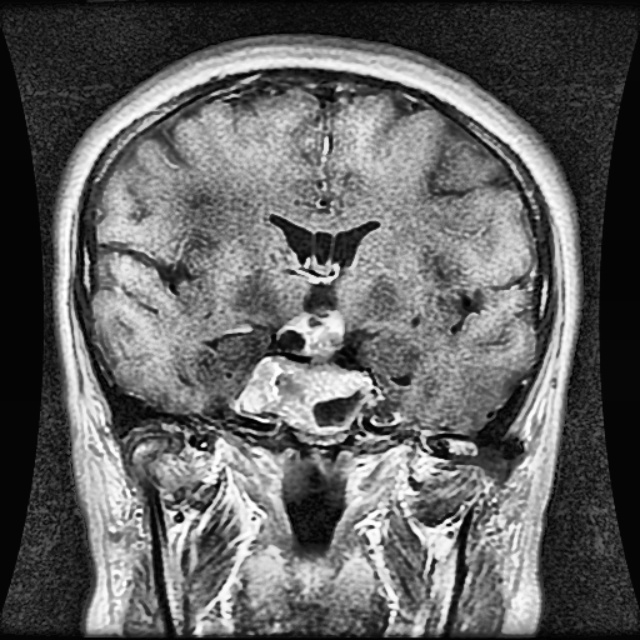Pituitary: (235, 305, 363, 427)
